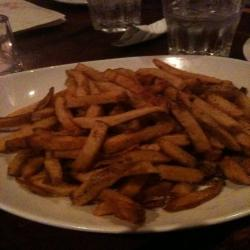fries: (10, 58, 250, 214)
